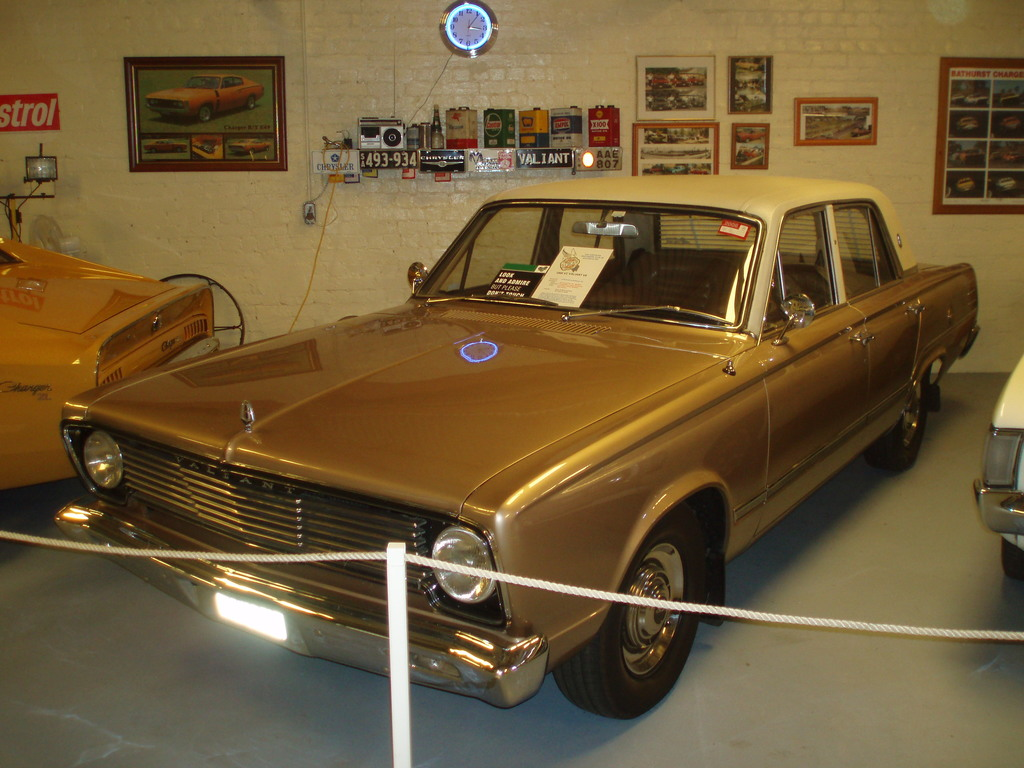Car: (38, 166, 954, 725), (0, 225, 222, 510), (977, 355, 1022, 579)
